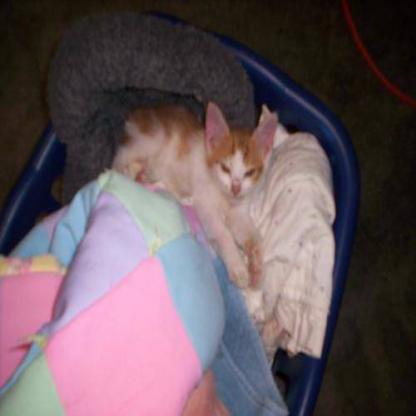cat: (195, 96, 293, 276)
